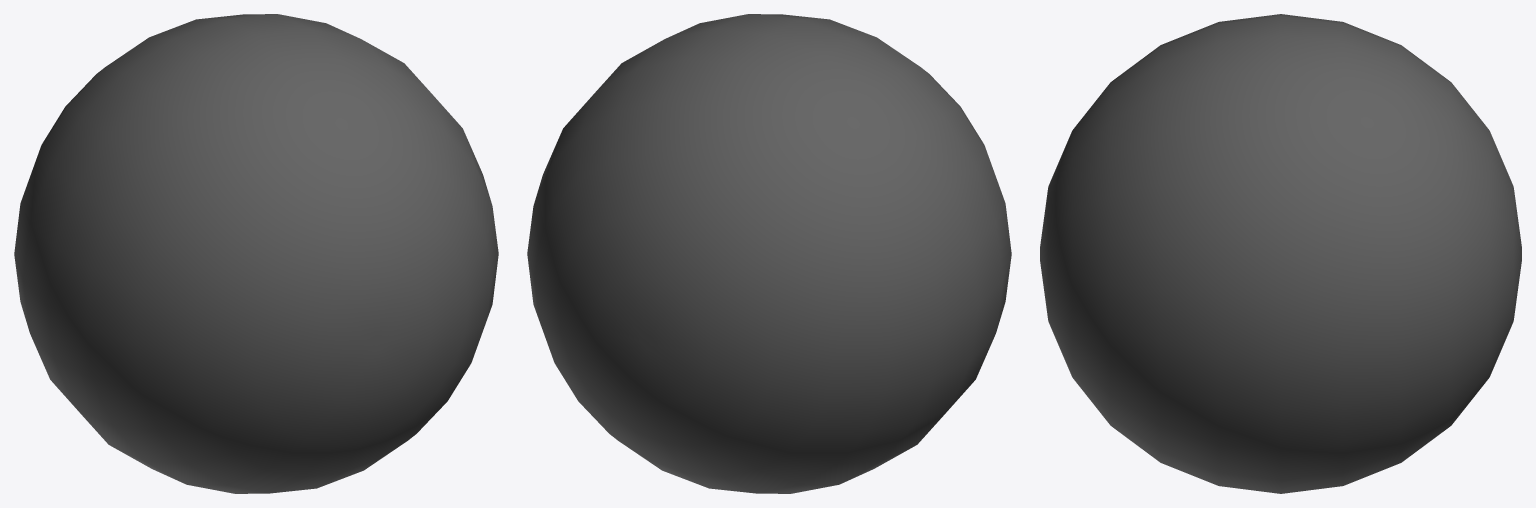
The model's file is d_kenney_boulets.glb.
3 views of the same model, side by side, from view 1: azimuth 30°, elevation 25°; view 2: azimuth 150°, elevation 25°; view 3: azimuth 270°, elevation 25° (orthographic).
Visible parts, largest first — view 1: d_kenney_boulets; view 2: d_kenney_boulets; view 3: d_kenney_boulets.
Boxes of the visible parts, bbox=[...] form: d_kenney_boulets: bbox=[14, 14, 498, 493]; d_kenney_boulets: bbox=[527, 14, 1011, 493]; d_kenney_boulets: bbox=[1040, 14, 1521, 493].
Size of the model in its own units: 0.14 by 0.14 by 0.14.
1 material, 1 textured.
